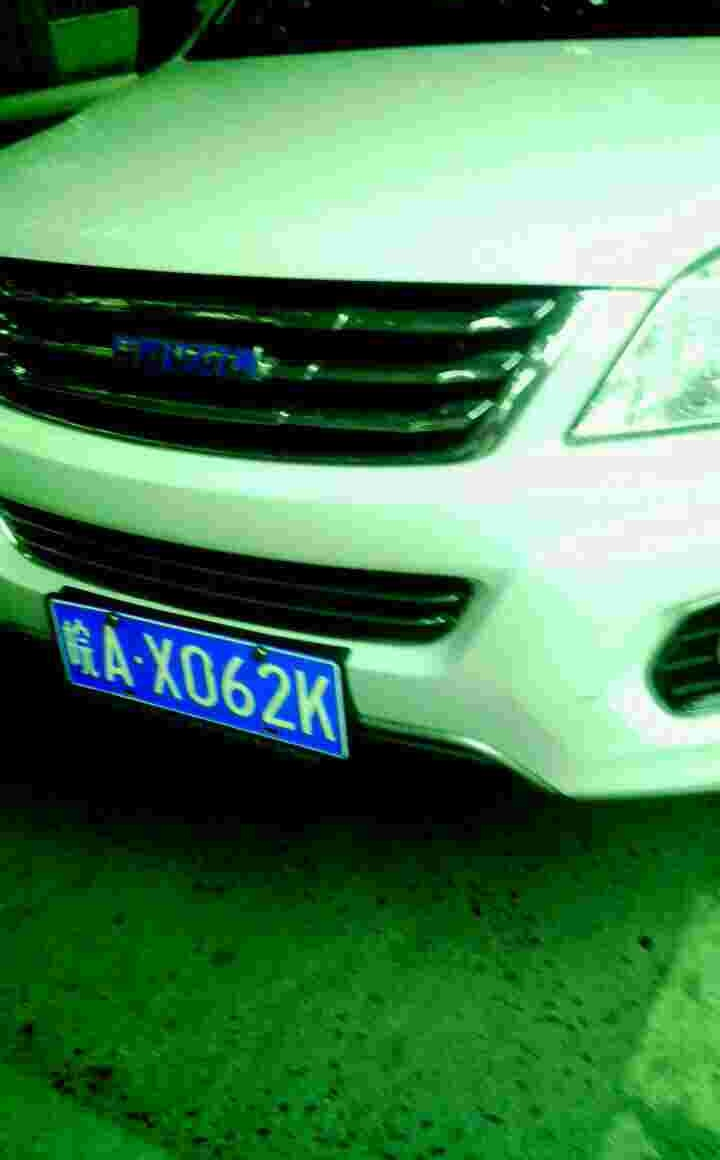license_plate: (59, 589, 355, 746)
